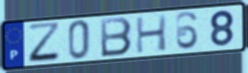0: (67, 18, 95, 61)
6: (174, 11, 200, 52)
8: (209, 9, 236, 49)
B: (99, 16, 133, 59)
H: (134, 13, 169, 55)
Z: (27, 21, 63, 65)
